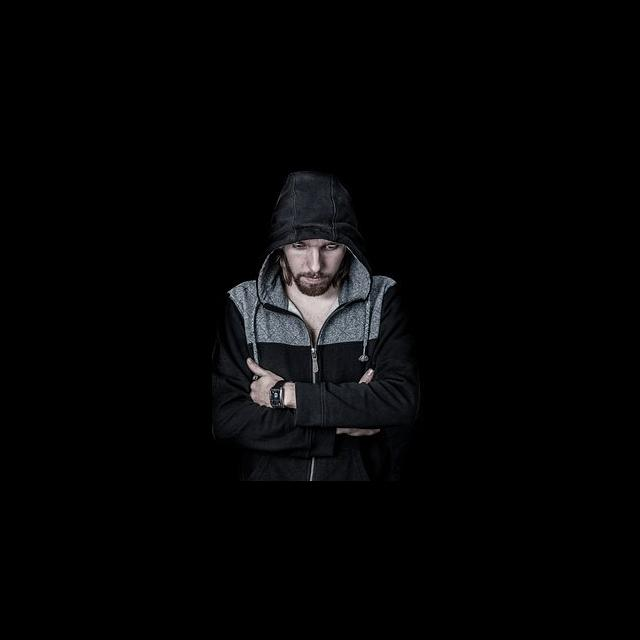male: (226, 170, 386, 351)
